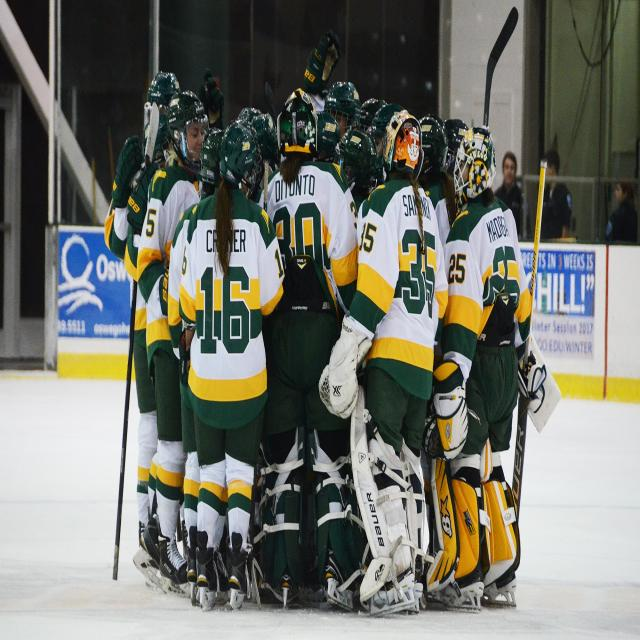body: (314, 94, 452, 627), (252, 84, 364, 624), (177, 113, 290, 612), (422, 119, 527, 620), (123, 96, 208, 616), (102, 65, 183, 590), (135, 88, 210, 599), (168, 127, 232, 607), (244, 455, 436, 605), (304, 32, 409, 176), (417, 106, 472, 210), (230, 92, 278, 170), (493, 149, 524, 242), (542, 148, 573, 238), (604, 179, 638, 246)
